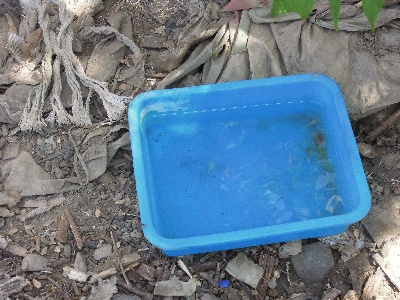box: (128, 72, 373, 258)
